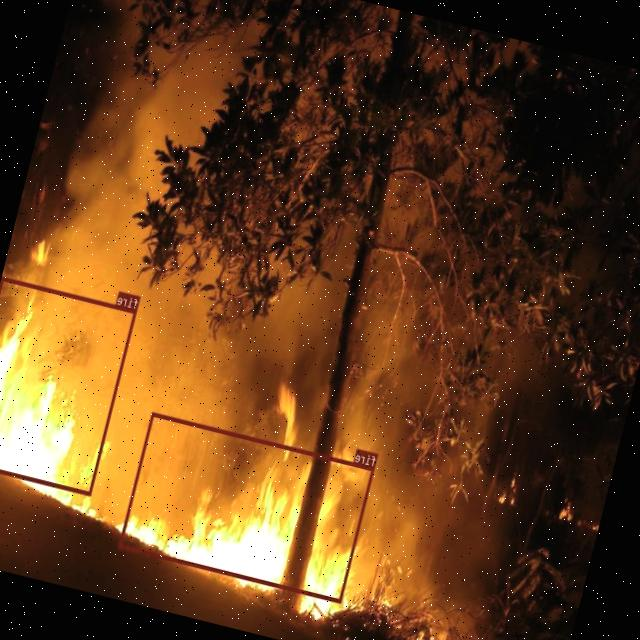fire: (118, 412, 375, 602), (0, 276, 136, 495)
